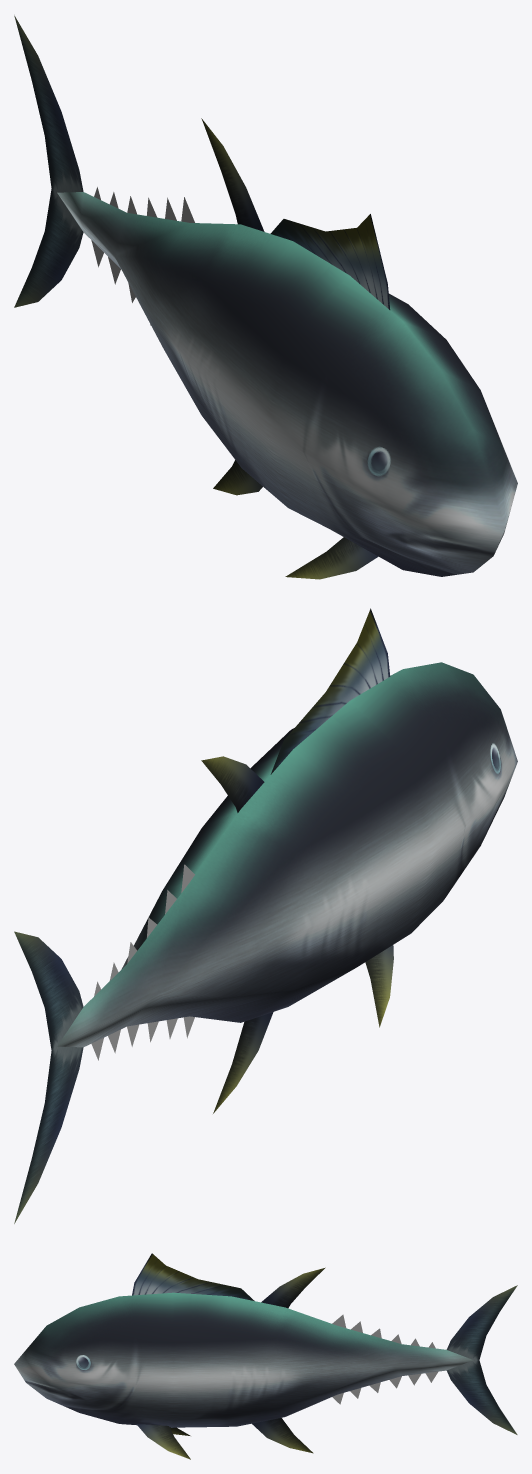
File: model_tuna.fbx
The picture shows the model from 3 angles, top to bottom: view 1: azimuth 30°, elevation 25°; view 2: azimuth 150°, elevation 25°; view 3: azimuth 270°, elevation 25°; orthographic projection. The views are drawn at different scales.
Visible parts, largest first — view 1: model_tuna; view 2: model_tuna; view 3: model_tuna.
Part boxes in pixels (x1,y1,x2,y2): model_tuna: [14, 15, 517, 579]; model_tuna: [14, 608, 517, 1223]; model_tuna: [14, 1253, 517, 1459].
Size of the model in its own units: 12.52 by 27.9 by 63.58.
